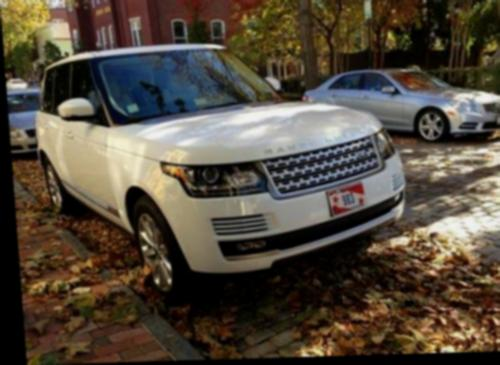License_Plate: (331, 179, 362, 214)
